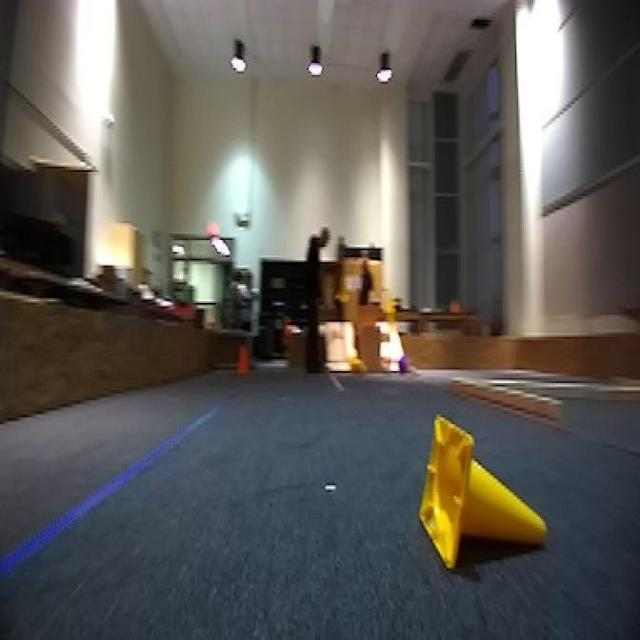frc_cone: (418, 412, 549, 572), (348, 354, 366, 373)
frc_cube: (395, 354, 410, 373)
